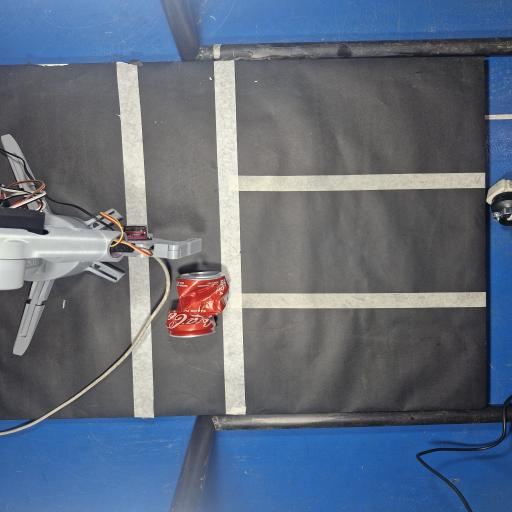lata_defectuoso: (166, 271, 229, 337)
